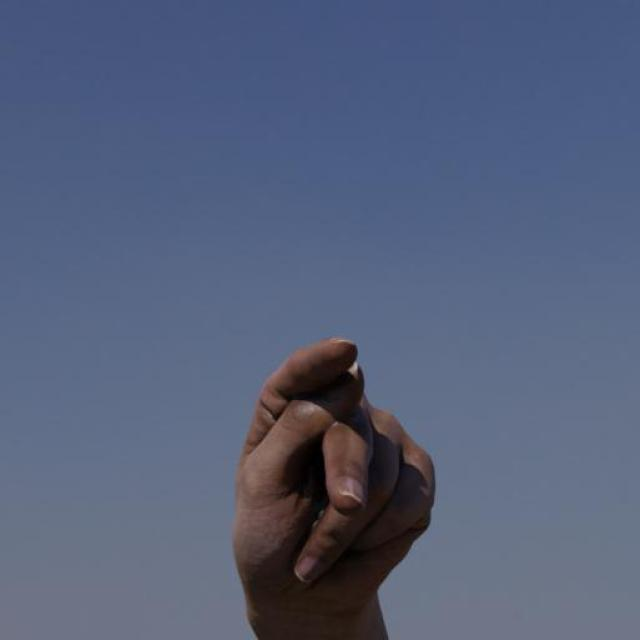P: (228, 335, 441, 631)
